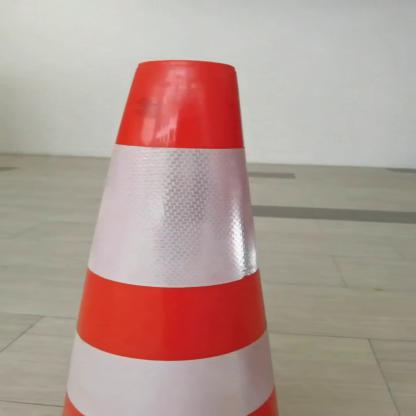cone: (51, 56, 307, 415)
